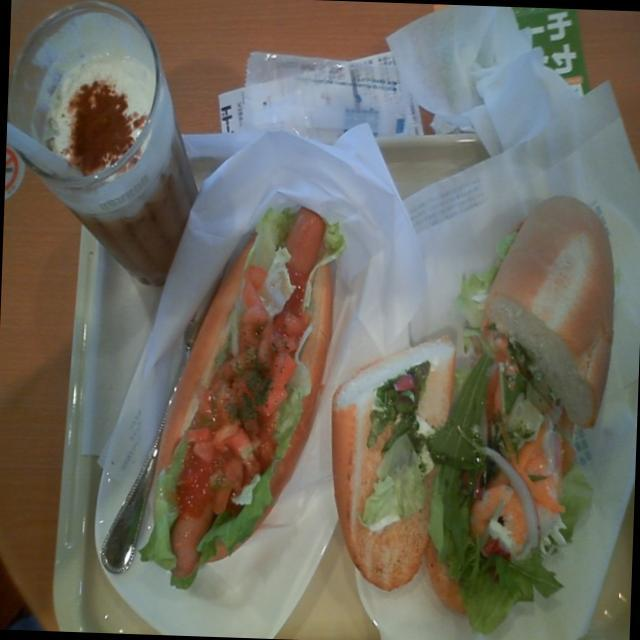Hot Dog: (127, 181, 360, 591)
